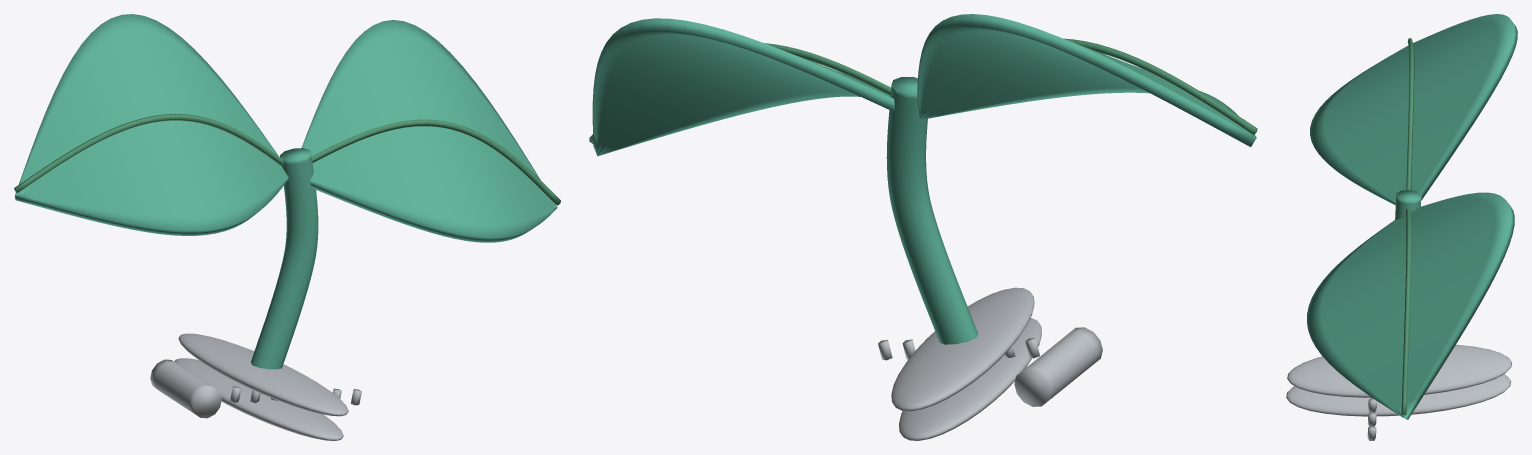
Rendered from Masculine-locs-headband251-sprout.glb.
3 views of the same model, side by side, from view 1: azimuth 30°, elevation 25°; view 2: azimuth 150°, elevation 25°; view 3: azimuth 270°, elevation 25° (orthographic). The views are drawn at different scales.
Visible parts, largest first — view 1: 226 extra / Accessory / mint226, 226 extra / Sprout / clip silver235, 226 extra / Sprout / leaf vein235; view 2: 226 extra / Accessory / mint226, 226 extra / Sprout / clip silver235, 226 extra / Sprout / leaf vein235; view 3: 226 extra / Accessory / mint226, 226 extra / Sprout / clip silver235, 226 extra / Sprout / leaf vein235.
Boxes of the visible parts, <box> form: 226 extra / Accessory / mint226: <box>15,14,557,369</box>; 226 extra / Sprout / clip silver235: <box>150,333,361,440</box>; 226 extra / Sprout / leaf vein235: <box>14,114,560,205</box>; 226 extra / Accessory / mint226: <box>592,14,1256,344</box>; 226 extra / Sprout / clip silver235: <box>878,287,1102,440</box>; 226 extra / Sprout / leaf vein235: <box>589,38,1257,143</box>; 226 extra / Accessory / mint226: <box>1307,14,1517,419</box>; 226 extra / Sprout / clip silver235: <box>1286,344,1512,440</box>; 226 extra / Sprout / leaf vein235: <box>1401,38,1414,415</box>.
Size of the model in its own units: 0.2635 by 0.1727 by 0.1055.
